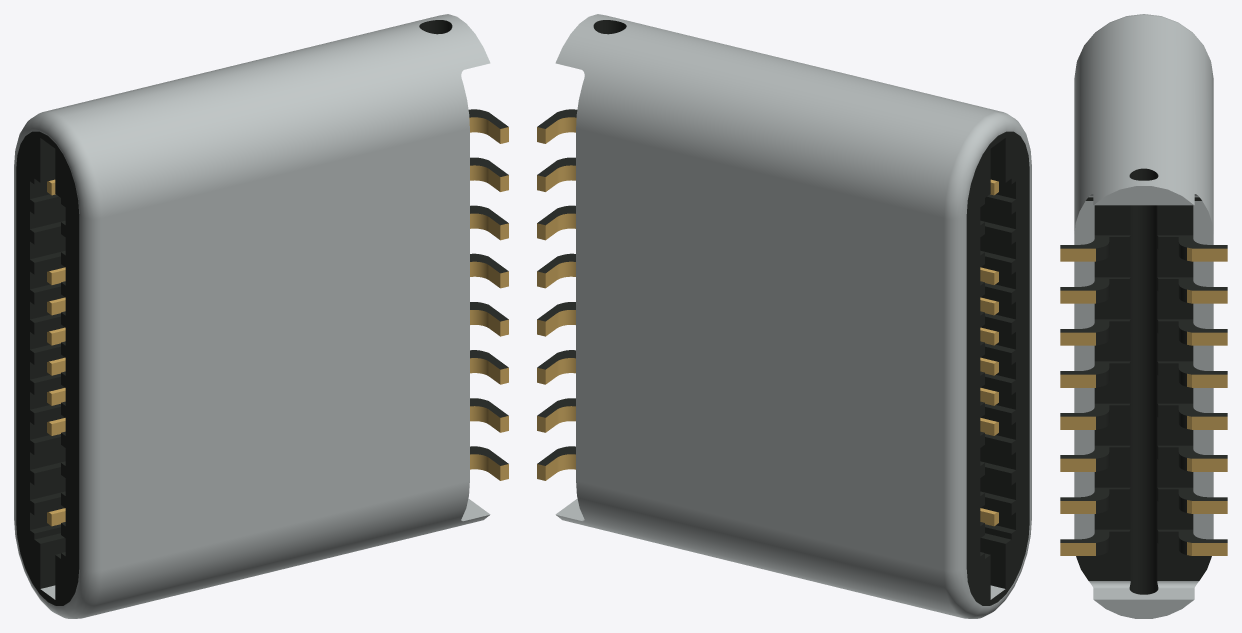
Rendered from usb-c.glb.
3 views of the same model, side by side, from view 1: azimuth 30°, elevation 25°; view 2: azimuth 150°, elevation 25°; view 3: azimuth 270°, elevation 25° (orthographic). The views are drawn at different scales.
Visible parts, largest first — view 1: USB-C plug; view 2: USB-C plug; view 3: USB-C plug.
Part boxes in pixels (x1,y1,x2,y2): USB-C plug: (14,14,508,618); USB-C plug: (537,14,1031,618); USB-C plug: (1060,14,1227,618).
Bounding box in the file's own units: 0.0072 × 0.00825 × 0.00288.
